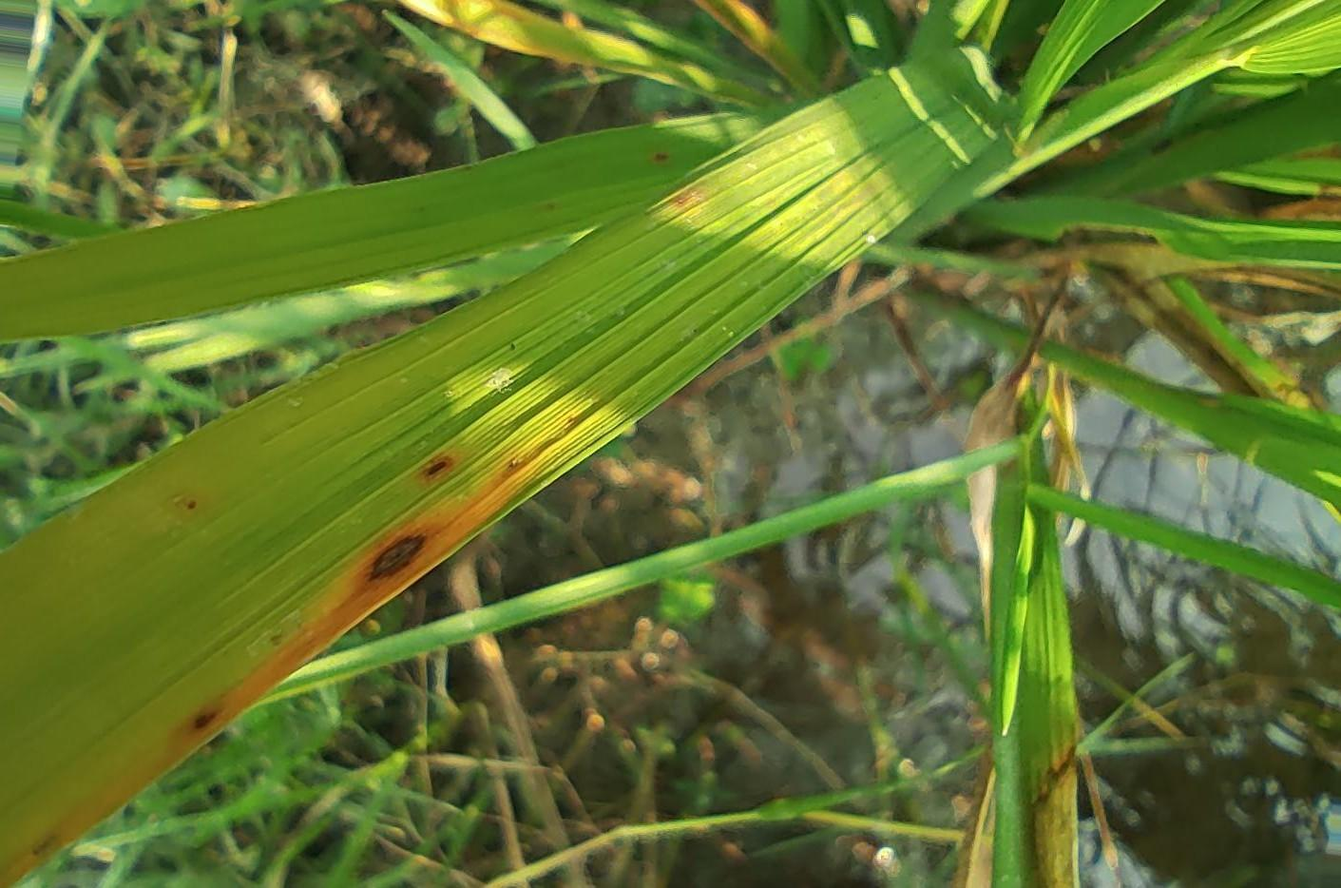LEAF: (0, 48, 1020, 881)
LEAF BLAST: (370, 534, 426, 580)
